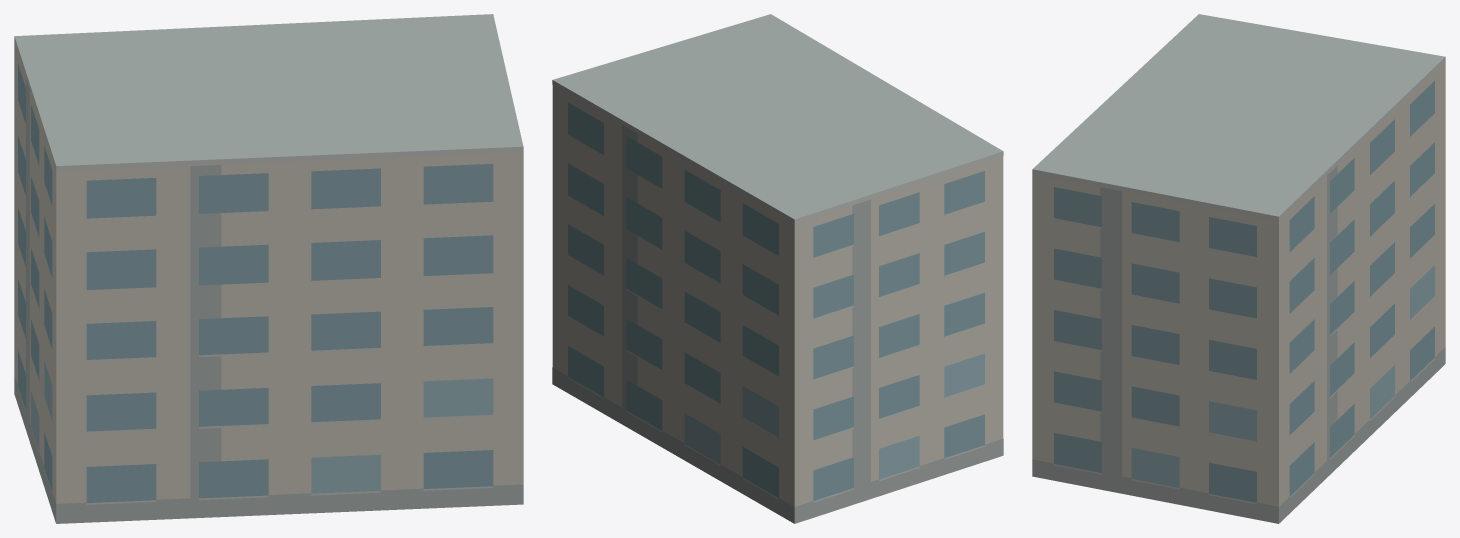
Rendered from survey-upis-32879369.glb.
The picture shows the model from 3 angles, left to right: view 1: azimuth 30°, elevation 25°; view 2: azimuth 150°, elevation 25°; view 3: azimuth 270°, elevation 25°; orthographic projection. The views are drawn at different scales.
Parts seen in each view (by area): view 1: survey-upis-32879369.tmp; view 2: survey-upis-32879369.tmp; view 3: survey-upis-32879369.tmp.
Part boxes in pixels (box(x1,y1,x2,y2)): survey-upis-32879369.tmp: box(14, 14, 523, 523); survey-upis-32879369.tmp: box(552, 14, 1003, 523); survey-upis-32879369.tmp: box(1032, 14, 1445, 523).
Bounding box in the file's own units: 21.58 × 15.25 × 18.59.
